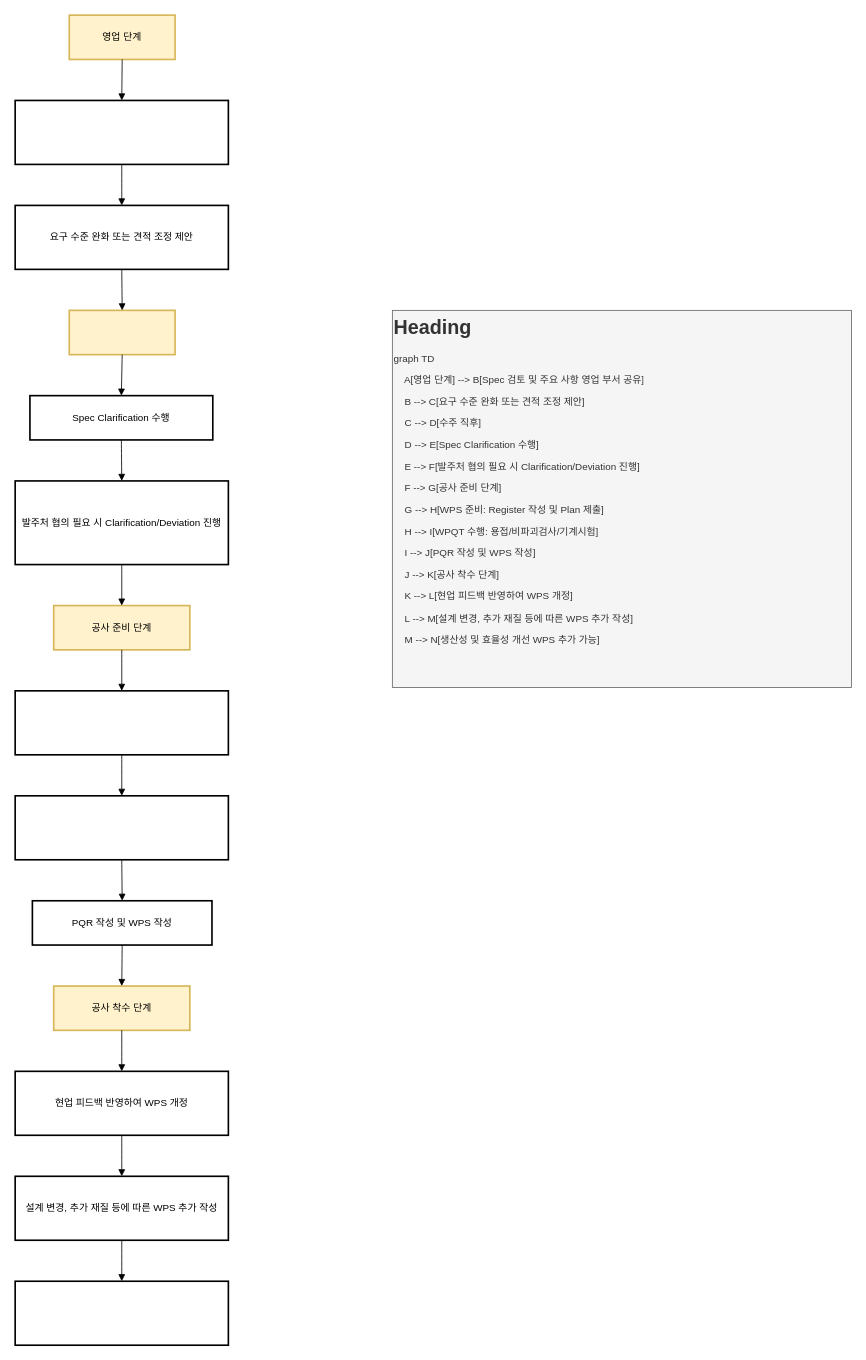
Image size: 866x1360. Some labels were removed from this diagram. The box of each missing label's shape, as (x1, y1, x2, y2) in pixels:
Spec 검토 및 주요 사항 영업 부서 공유: (14, 99, 229, 165)
WPQT 수행: 용접/비파괴검사/기계시험: (14, 795, 229, 860)
WPS 준비: Register 작성 및 Plan 제출: (14, 690, 229, 755)
생산성 및 효율성 개선 WPS 추가 가능: (14, 1280, 229, 1346)
수주 직후: (68, 309, 175, 355)
